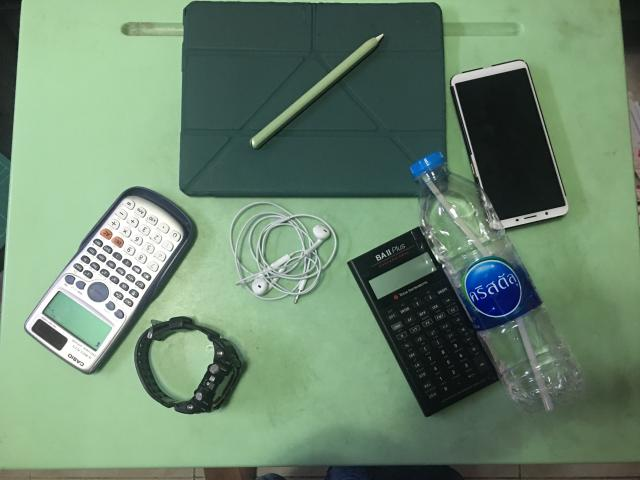Mobile phone: (450, 60, 568, 232)
Watch: (135, 316, 241, 414)
bottle: (411, 152, 585, 412)
wire: (230, 201, 338, 300)
